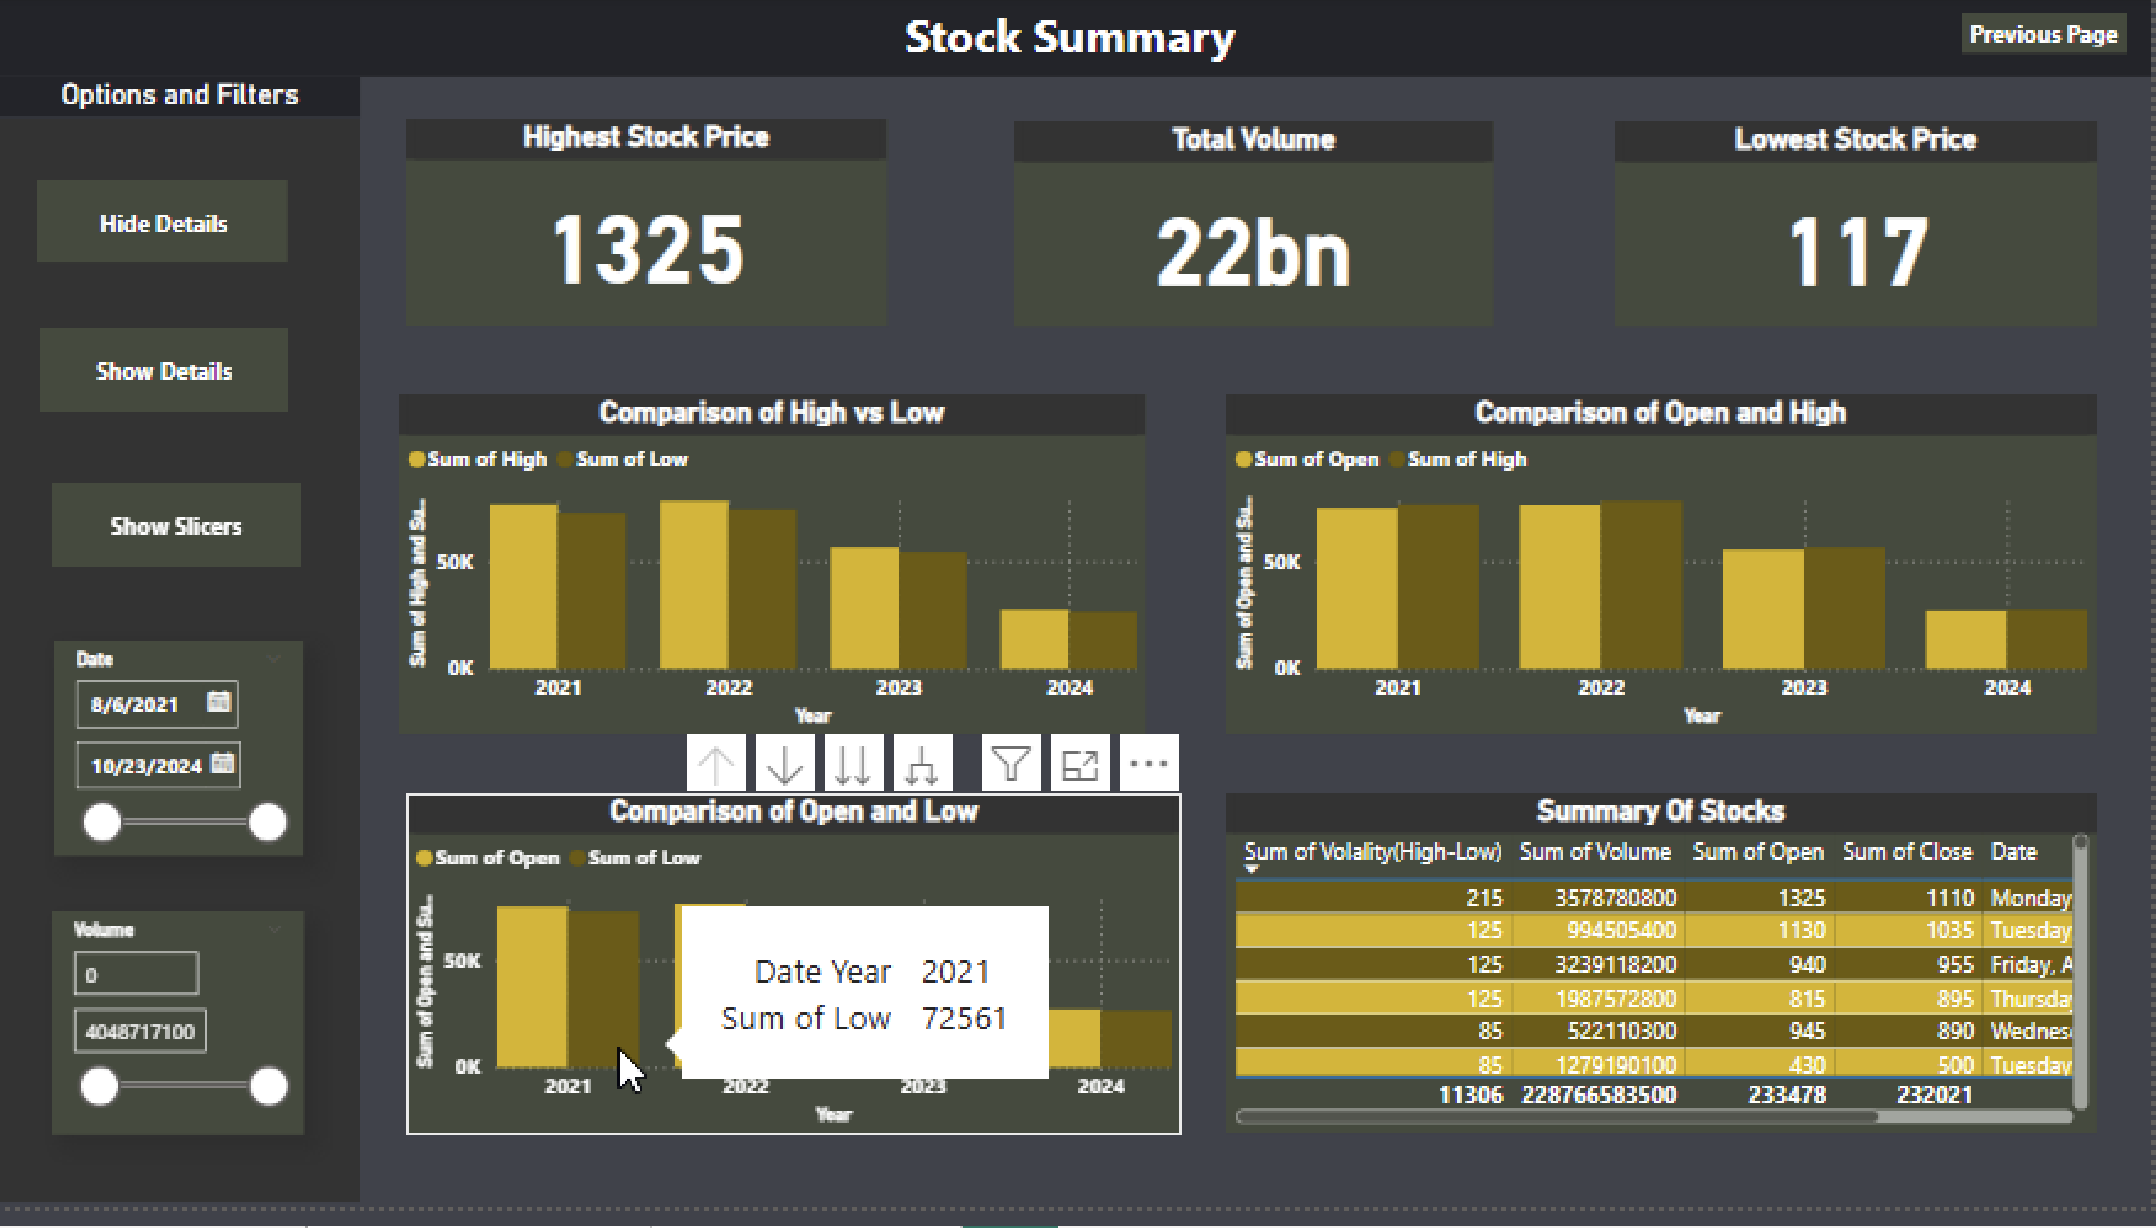

What the dashboard file says about the page in this screenshot:
{"tool":"powerbi","page":{"name":"Stock Summary","canvas":[1280,720],"ordinal":1},"visuals":[{"type":"shape","title":"Options and Filters","box":[0,48.8,213.7,669],"z":0},{"type":"textbox","box":[0,0,1280,47.9],"z":1000},{"type":"clusteredColumnChart","title":"Comparison of High vs Low","fields":{"Category":["BUKA JK.Date.Variation.Date Hierarchy.Year","BUKA JK.Date.Variation.Date Hierarchy.Month","BUKA JK.Date.Variation.Date Hierarchy.Day"],"Y":["Sum(BUKA JK.High)","Sum(BUKA JK.Low)"]},"box":[237.3,237.3,444.1,202.4],"z":2000},{"type":"card","title":"Highest Stock Price","fields":{"Values":["Max(BUKA JK.High)"]},"box":[242.1,73,285.9,123.1],"z":3000},{"type":"card","title":"Total Volume","fields":{"Values":["Sum(BUKA JK.Volume)"]},"box":[603,74,285.2,121.9],"z":4000},{"type":"card","title":"Lowest Stock Price","fields":{"Values":["Min(BUKA JK.Low)"]},"box":[960,74,287.3,121.9],"z":5000},{"type":"slicer","fields":{"Values":["BUKA JK.Date"]},"box":[32.7,383.1,148,128.4],"z":6000},{"type":"slicer","fields":{"Values":["BUKA JK.Volume"]},"box":[30.5,544.2,150.2,132.8],"z":7000},{"type":"shape","box":[22.7,109.2,150.5,49.5],"z":8000},{"type":"shape","box":[23.9,198.1,148,50.1],"z":9000},{"type":"shape","box":[30.5,289.5,148,50.1],"z":10000},{"type":"clusteredColumnChart","title":"Comparison of Open and High","fields":{"Category":["BUKA JK.Date.Variation.Date Hierarchy.Year","BUKA JK.Date.Variation.Date Hierarchy.Month","BUKA JK.Date.Variation.Date Hierarchy.Day"],"Y":["Sum(BUKA JK.Open)","Sum(BUKA JK.High)"]},"box":[729.3,237.3,518.1,202.4],"z":11000},{"type":"clusteredColumnChart","title":"Comparison of Open and Low","fields":{"Category":["BUKA JK.Date.Variation.Date Hierarchy.Year","BUKA JK.Date.Variation.Date Hierarchy.Month","BUKA JK.Date.Variation.Date Hierarchy.Day"],"Y":["Sum(BUKA JK.Open)","Sum(BUKA JK.Low)"]},"box":[241.6,474.6,461.5,202.4],"z":12000},{"type":"tableEx","title":"Summary Of Stocks","fields":{"Values":["Sum(BUKA JK.Volality(High-Low))","Sum(BUKA JK.Volume)","Sum(BUKA JK.Open)","Sum(BUKA JK.Close)","BUKA JK.Date"]},"box":[729.3,474.6,518.1,202.4],"z":13000},{"type":"shape","box":[1166.8,10.9,98,23.9],"z":13001}]}

Visuals, with their boxes in screenshot pixels (x1, y1, x2, y2), scaled from the page's 1280x720 canvas onto the 2156x1228 screenshot:
"Options and Filters" shape: (0, 83, 360, 1224)
textbox: (0, 0, 2155, 82)
"Comparison of High vs Low" clusteredColumnChart: (400, 405, 1148, 750)
"Highest Stock Price" card: (408, 125, 889, 334)
"Total Volume" card: (1016, 126, 1496, 334)
"Lowest Stock Price" card: (1617, 126, 2101, 334)
slicer - BUKA JK.Date: (55, 653, 304, 872)
slicer - BUKA JK.Volume: (51, 928, 304, 1155)
shape: (38, 186, 292, 271)
shape: (40, 338, 290, 423)
shape: (51, 494, 301, 579)
"Comparison of Open and High" clusteredColumnChart: (1228, 405, 2101, 750)
"Comparison of Open and Low" clusteredColumnChart: (407, 809, 1184, 1155)
"Summary Of Stocks" tableEx: (1228, 809, 2101, 1155)
shape: (1965, 19, 2130, 59)
